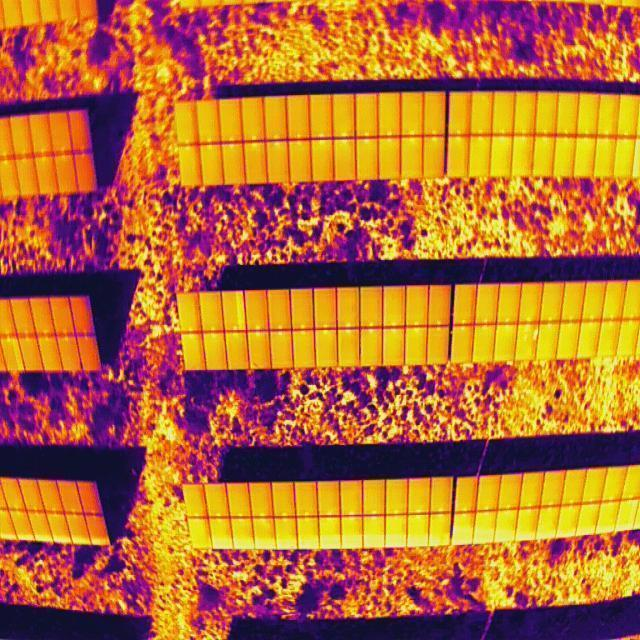diode: (233, 290, 246, 333)
